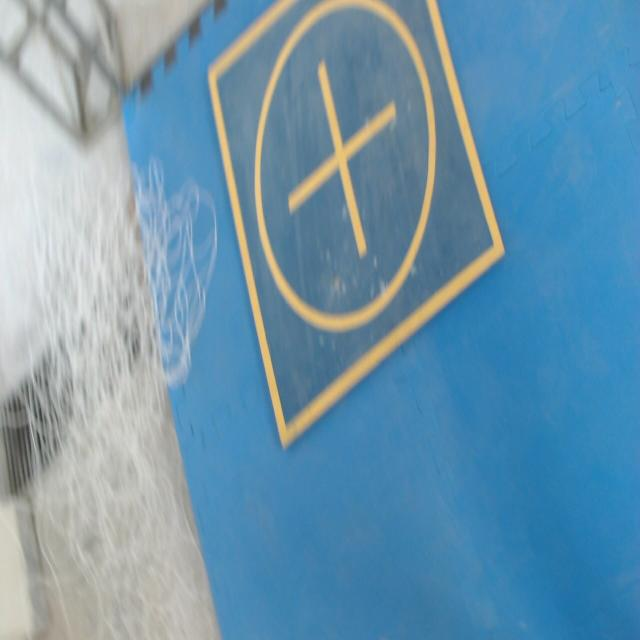base_pouso: (205, 0, 507, 448)
